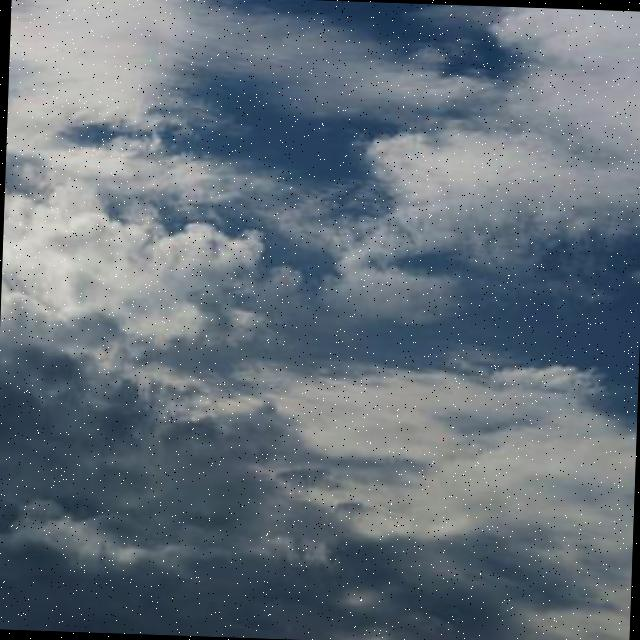As: (1, 53, 640, 610)
